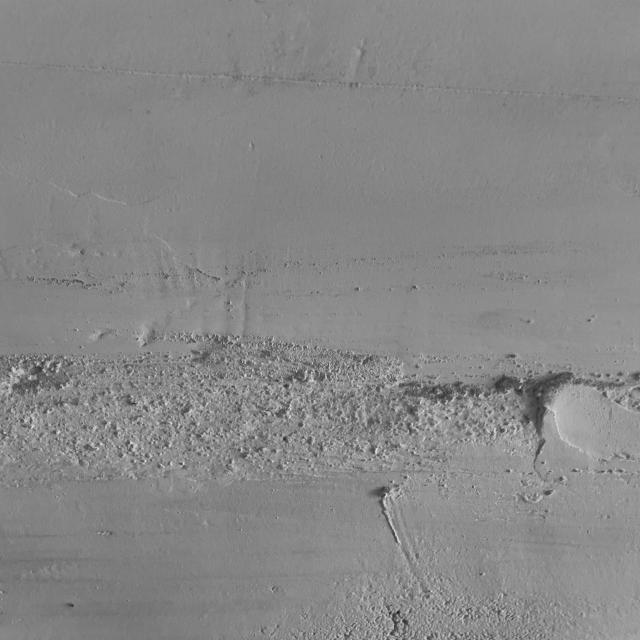rough and patchy surface: (0, 178, 640, 480), (255, 472, 640, 640), (37, 34, 640, 110)
